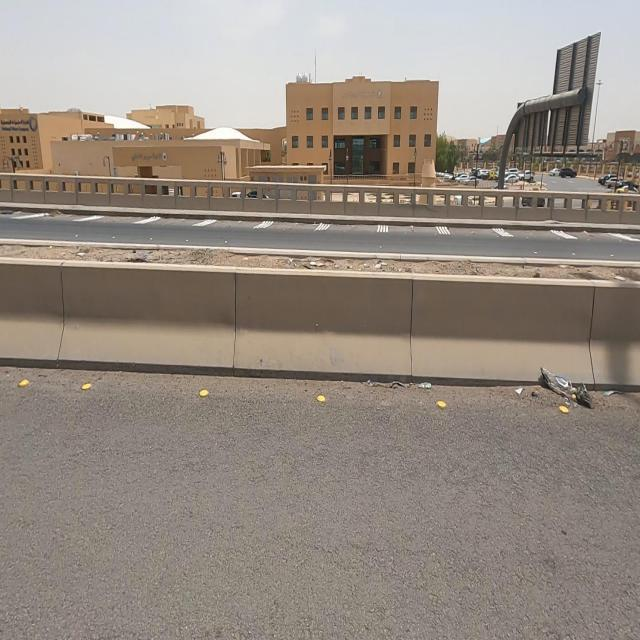debris: (456, 311, 640, 467)
